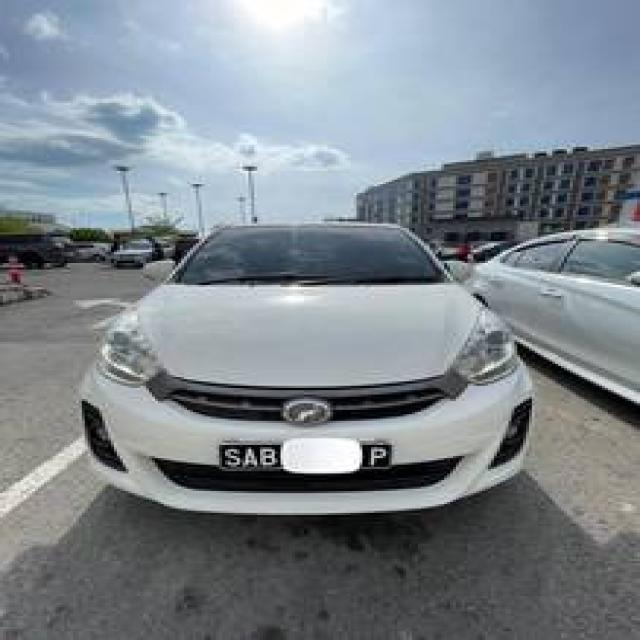PeroduaMyvi: (73, 217, 535, 517)
